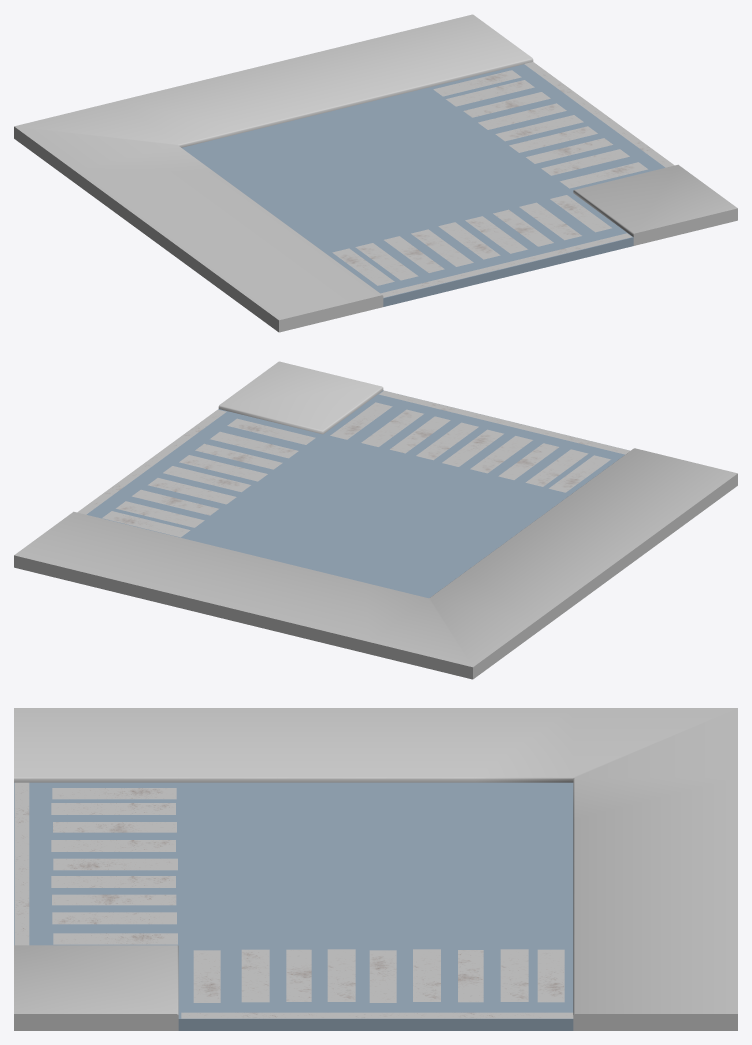
File: Road_009.fbx
The picture shows the model from 3 angles, top to bottom: view 1: azimuth 30°, elevation 25°; view 2: azimuth 150°, elevation 25°; view 3: azimuth 270°, elevation 25°; orthographic projection. The views are drawn at different scales.
Visible parts, largest first — view 1: Road_009; view 2: Road_009; view 3: Road_009.
Boxes of the visible parts, x1,y1,x2,y2 form: Road_009: [14, 14, 737, 332]; Road_009: [14, 361, 737, 679]; Road_009: [14, 708, 737, 1030].
Bounding box in the file's own units: 2202 × 56.17 × 2202.
